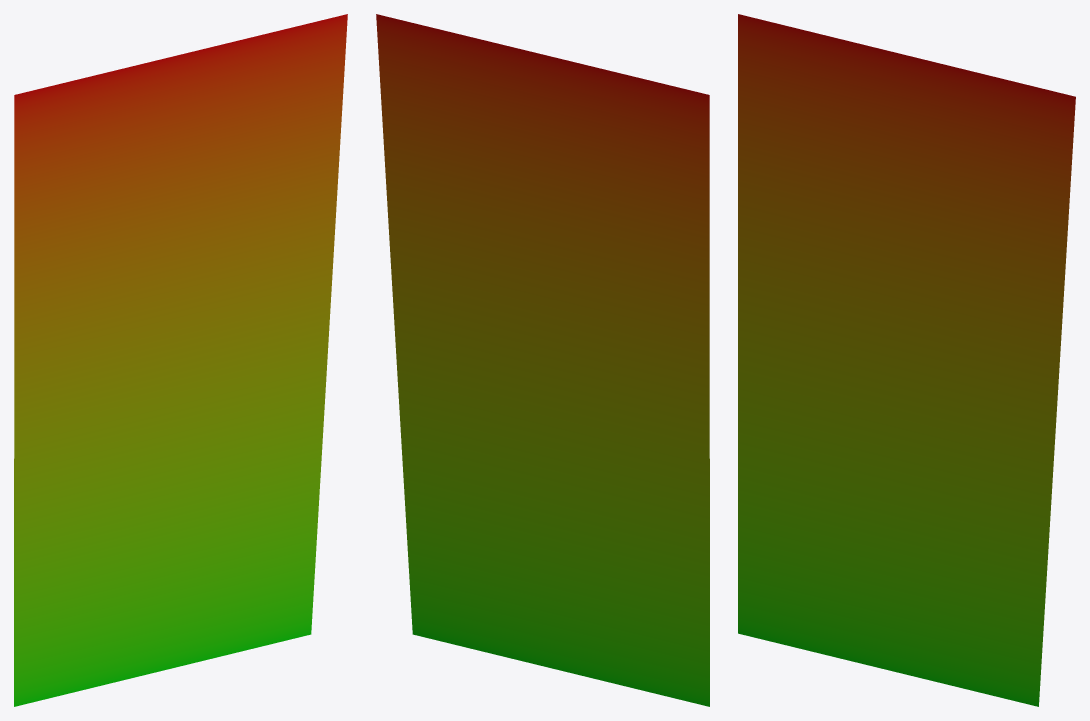
The model's file is Desert Grass_LOD2_Var1_scvhd.fbx.
3 renders of one model, left to right at view 1: azimuth 30°, elevation 25°; view 2: azimuth 150°, elevation 25°; view 3: azimuth 330°, elevation 25°, orthographic.
Visible parts, largest first — view 1: _e813_Var1_LOD2; view 2: _e813_Var1_LOD2; view 3: _e813_Var1_LOD2.
Part boxes in pixels (x1,y1,x2,y2): _e813_Var1_LOD2: (14, 14, 347, 706); _e813_Var1_LOD2: (376, 14, 709, 706); _e813_Var1_LOD2: (738, 14, 1075, 706).
Size of the model in its own units: 19.7 by 34.51 by 5.96e-06.
